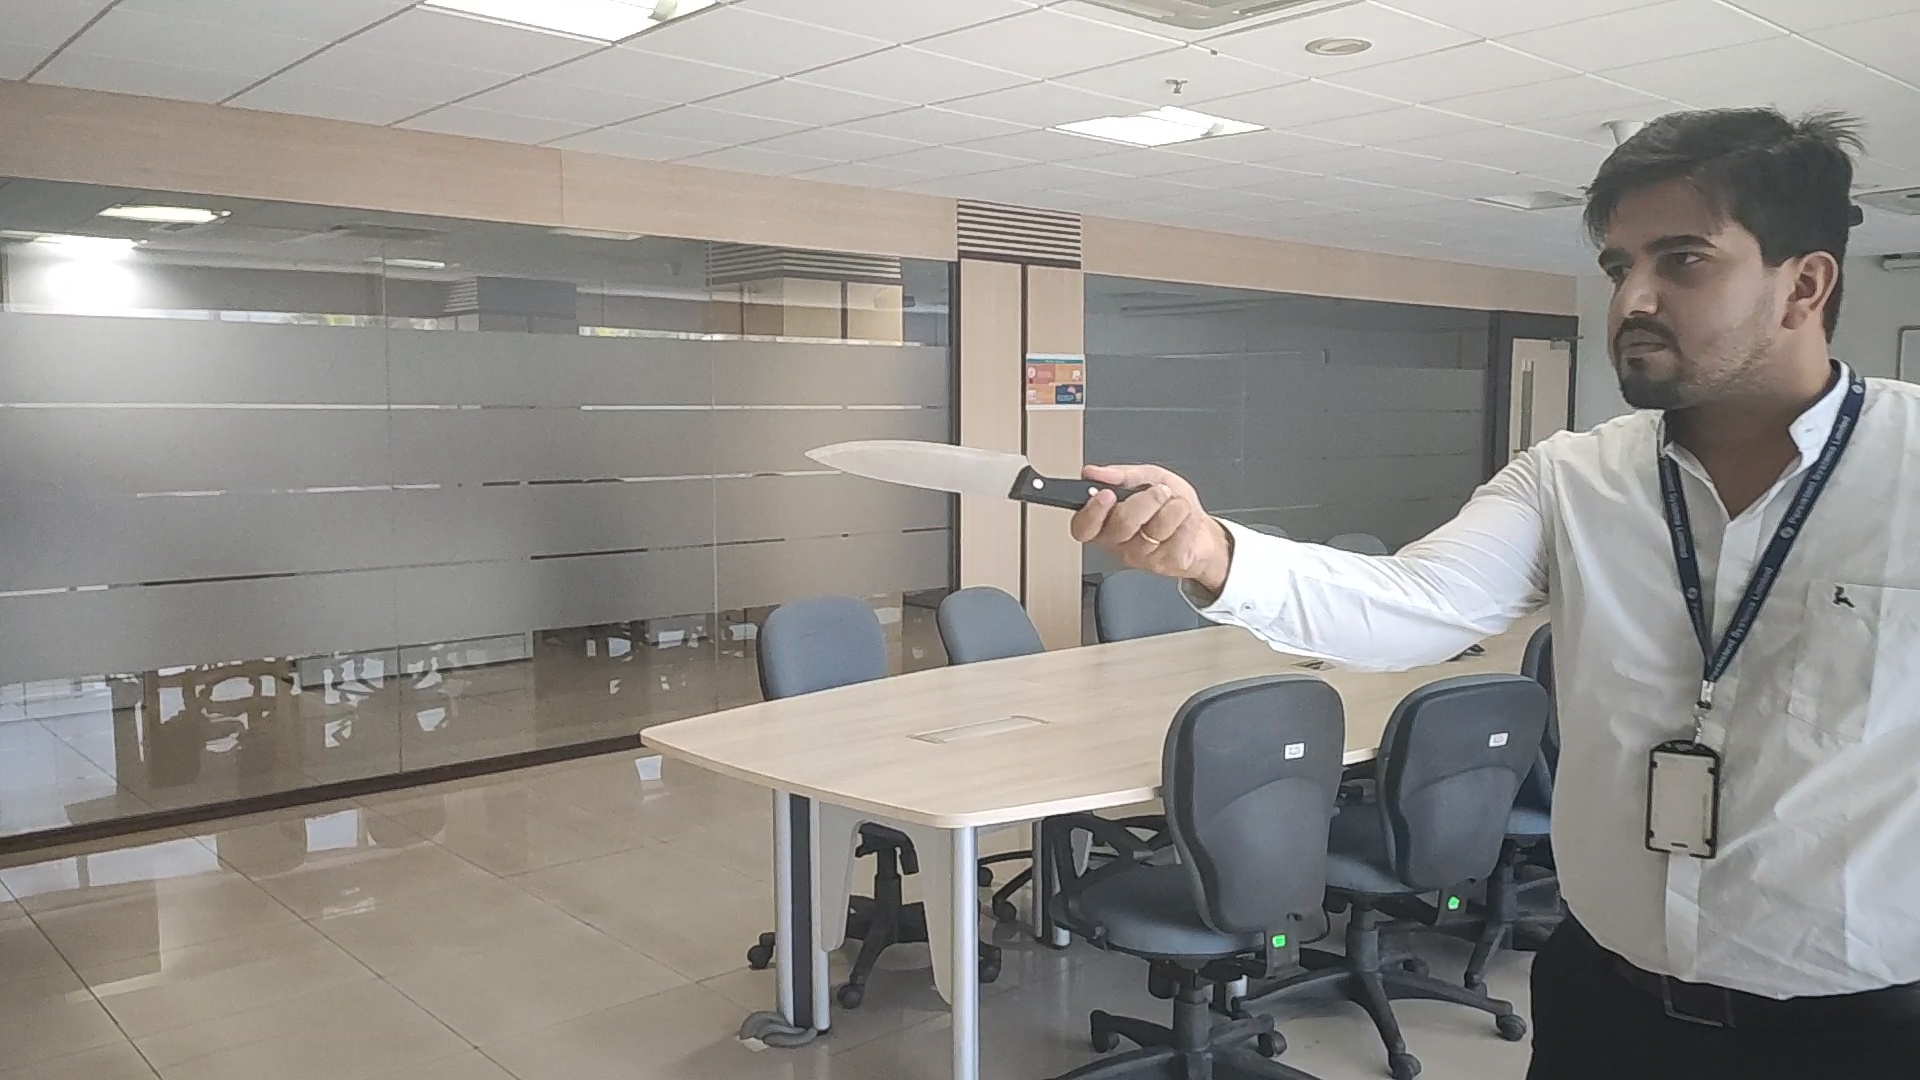knife: (804, 436, 1083, 512)
